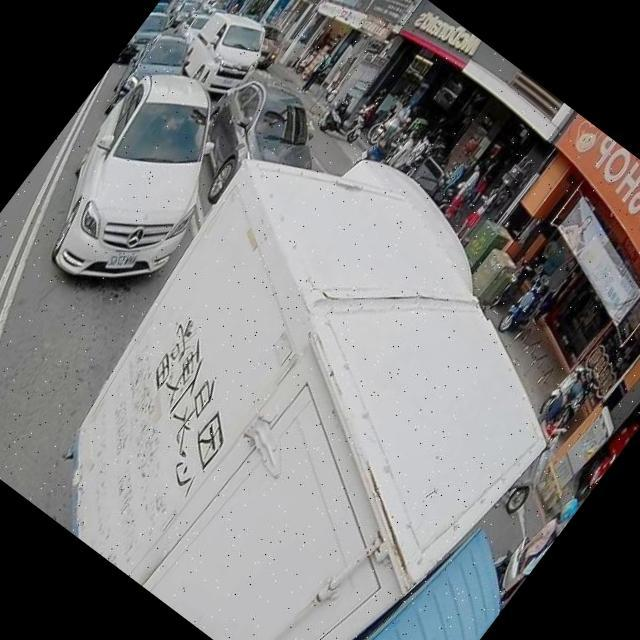person: (489, 486, 584, 600), (530, 261, 586, 329), (534, 374, 592, 439), (438, 160, 492, 224), (453, 179, 505, 242), (460, 154, 510, 214), (398, 129, 441, 180), (376, 96, 418, 148), (384, 125, 426, 172), (300, 51, 335, 94)
